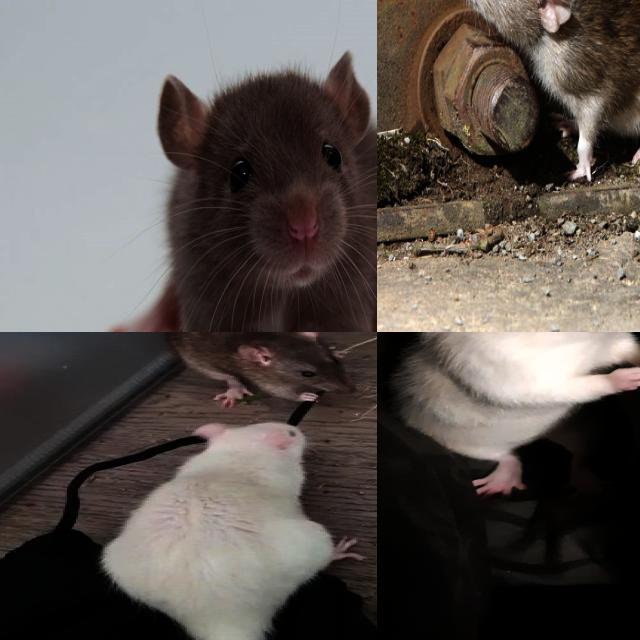rat: (97, 46, 377, 332), (104, 419, 365, 640), (388, 332, 640, 500), (453, 0, 640, 179), (166, 332, 361, 405)
